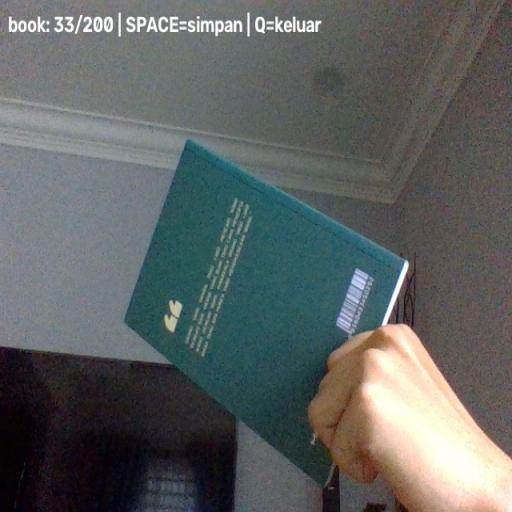Book: (122, 138, 408, 492)
